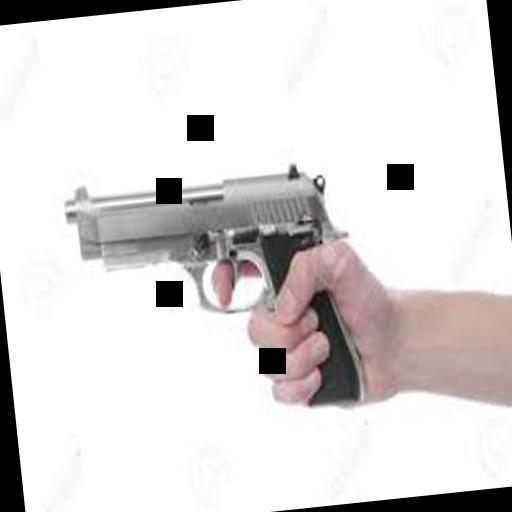Handgun: (54, 144, 376, 445)
